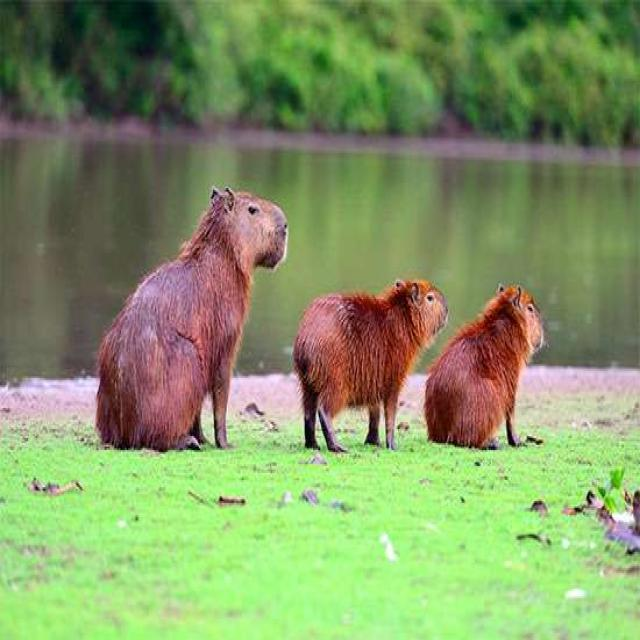capy: (93, 178, 289, 455), (294, 273, 448, 453), (426, 282, 549, 457)
